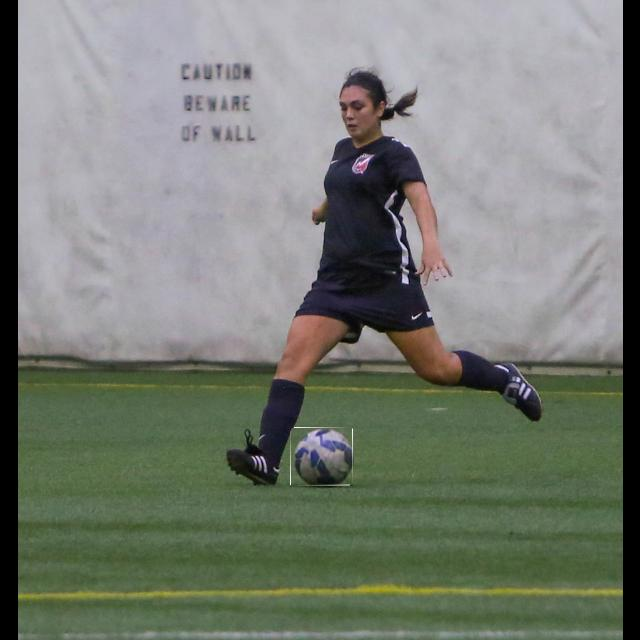Football: (291, 428, 353, 486)
